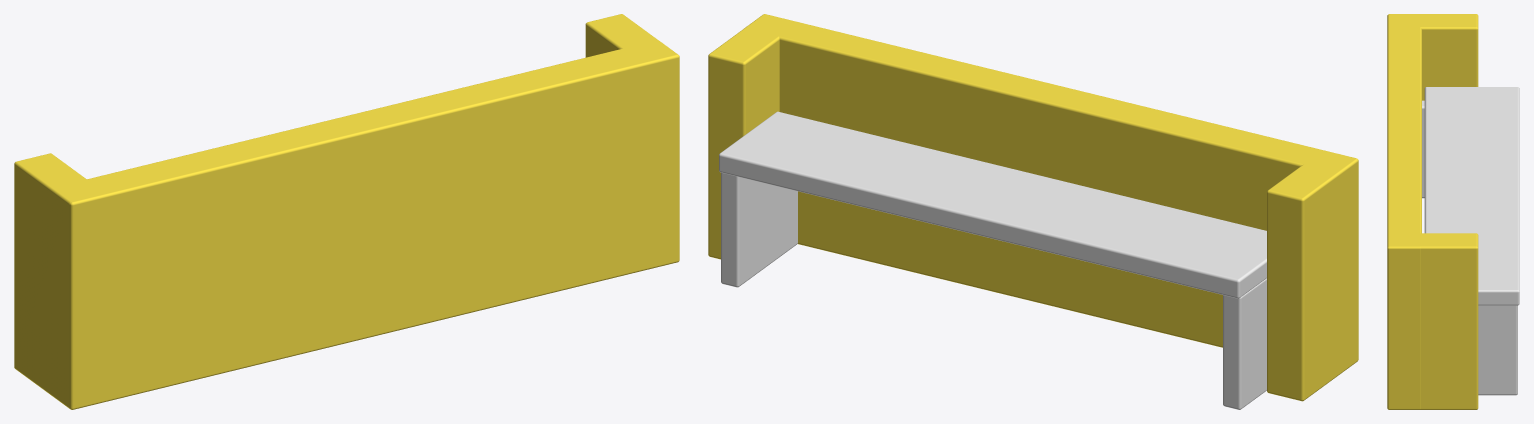
File: AdminTable.glb
3 renders of one model, left to right at view 1: azimuth 30°, elevation 25°; view 2: azimuth 150°, elevation 25°; view 3: azimuth 270°, elevation 25°, orthographic. The views are drawn at different scales.
Parts seen in each view (by area): view 1: Box 2, Box, Box 1; view 2: Box 2, Box 3, Box, Box 1, Box 5, Box 4; view 3: Box 3, Box 2, Box 1, Box, Box 5, Box 4.
Part boxes in pixels (x1=…): Box 2: x1=53, y1=40, x2=679, y2=409; Box: x1=14, y1=153, x2=104, y2=408; Box 1: x1=585, y1=14, x2=674, y2=62; Box 2: x1=744, y1=14, x2=1358, y2=359; Box 3: x1=719, y1=111, x2=1266, y2=298; Box: x1=1267, y1=151, x2=1358, y2=401; Box 1: x1=708, y1=15, x2=795, y2=259; Box 5: x1=721, y1=172, x2=797, y2=287; Box 4: x1=1223, y1=278, x2=1266, y2=409; Box 3: x1=1424, y1=87, x2=1519, y2=305; Box 2: x1=1387, y1=14, x2=1421, y2=409; Box 1: x1=1392, y1=233, x2=1478, y2=409; Box: x1=1390, y1=14, x2=1478, y2=100; Box 5: x1=1478, y1=305, x2=1517, y2=395; Box 4: x1=1422, y1=100, x2=1424, y2=198.
Bounding box in the file's own units: 1.04 × 0.338 × 0.2482.
